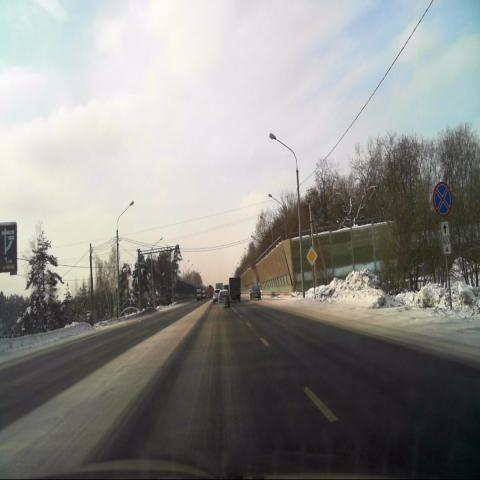2_1: (306, 246, 317, 265)
3_27: (433, 182, 451, 215)
8_2_2: (440, 220, 451, 256)
